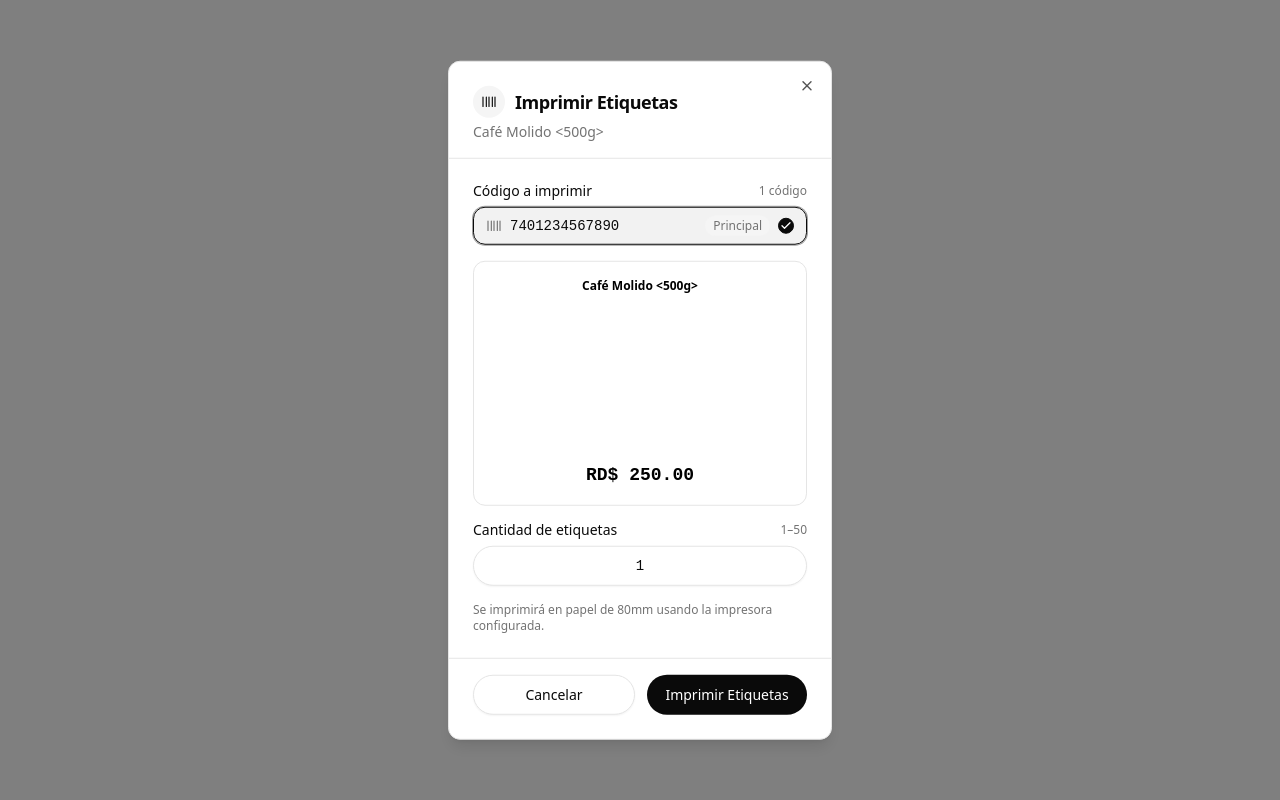
Test: PrintLabelsDialog › blocks printing for an out-of-range quantity
This screenshot has width=1280, height=800.
Replace the text in the number field labelled "Cantidad de etiquetas" with "99" at (640, 565), box [473,545,807,585]
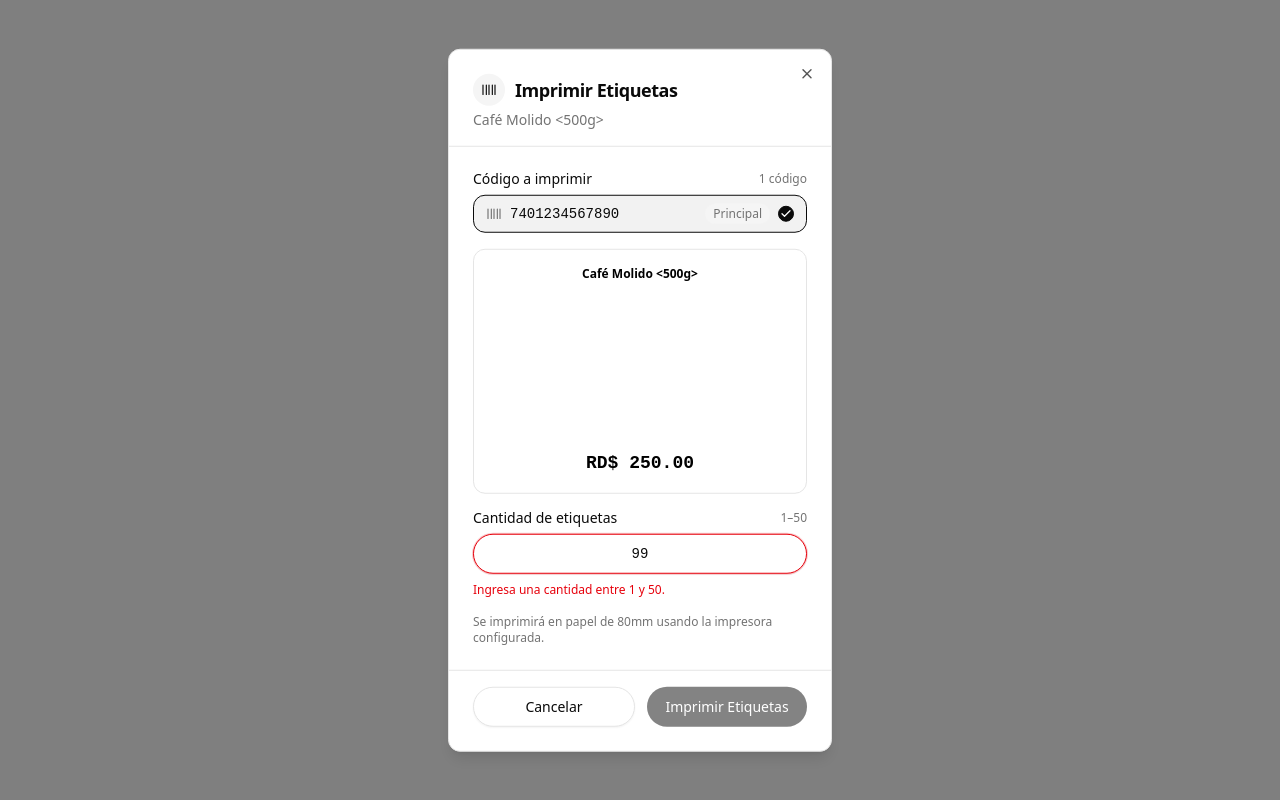
Now the button "Imprimir Etiquetas" is disabled, box [647,686,807,726]
Now the text "Ingresa una cantidad entre 1 y 50." is shown, box [473,580,665,597]
